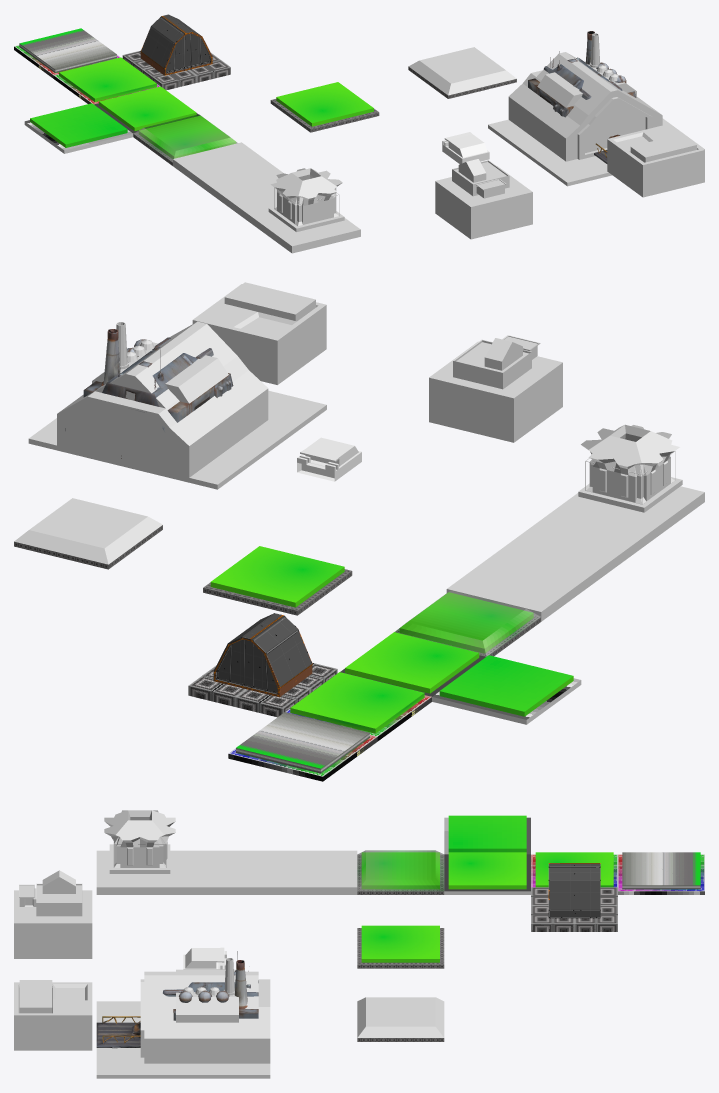
Rendered from Game_Scene8.glb.
3 views of the same model, one above another, from view 1: azimuth 30°, elevation 25°; view 2: azimuth 150°, elevation 25°; view 3: azimuth 270°, elevation 25° (orthographic). The views are drawn at different scales.
Visible parts, largest first — view 1: Sphere, Cube.001, Cube.002, platform3_copy1, platform3.002, platform5, building, barn, platform3_beforemerge.003, platform2_copy1, platform2, Cube (+10 smaller); view 2: Sphere, Cube.001, Cube.002, platform3.002, platform2_copy1, platform3_copy1, platform5, platform6, barn, building, platform3_beforemerge.003, Cube (+10 smaller); view 3: Sphere, Cube.001, Cube.002, Cube, platform5, platform6, platform3.002, platform3_newer.001, platform3, platform2_copy1, platform3_beforemerge.003, platform3_newer.002 (+9 smaller).
Boxes of the visible parts, x1,y1,x2,y2 form: Sphere: (508,33,662,161); Cube.001: (435,159,532,239); Cube.002: (607,124,704,197); platform3_copy1: (24,103,133,153); platform3.002: (270,82,379,132); platform5: (173,142,280,194); building: (270,168,342,225); barn: (140,14,212,75); platform3_beforemerge.003: (409,47,516,95); platform2_copy1: (14,28,120,78); platform2: (53,57,160,104); Cube: (488,118,704,186); Sphere: (57,321,268,477); Cube.001: (429,335,562,442); Cube.002: (192,282,326,384); platform3.002: (203,546,352,615); platform2_copy1: (228,712,377,781); platform3_copy1: (432,655,581,724); platform5: (446,549,595,621); platform6: (502,509,650,581); barn: (213,613,312,697); building: (581,424,679,504); platform3_beforemerge.003: (14,498,162,564); Cube: (28,390,326,489); Sphere: (140,958,270,1063); Cube.001: (14,870,92,958); Cube.002: (14,980,92,1050); Cube: (96,1001,270,1078); platform5: (270,850,357,894); platform6: (183,850,270,894); platform3.002: (357,925,444,968); platform3_newer.001: (357,852,444,894); platform3: (444,852,530,894); platform2_copy1: (618,852,704,894); platform3_beforemerge.003: (357,997,444,1037); platform3_newer.002: (357,850,444,891).
Size of the model in its own units: 140 by 23.72 by 159.
18 materials, 12 textured.
